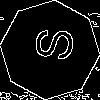S: (25, 25, 75, 63)
